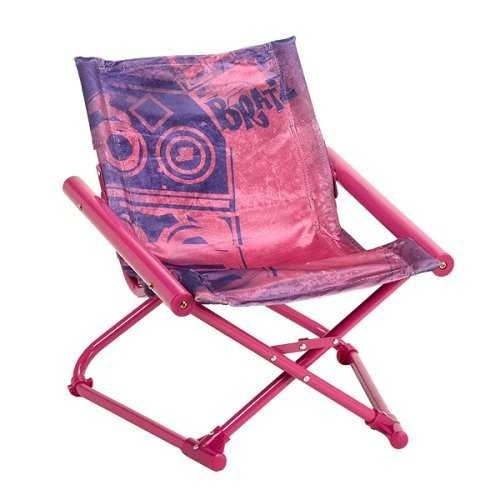obstacle: (64, 38, 453, 469)
